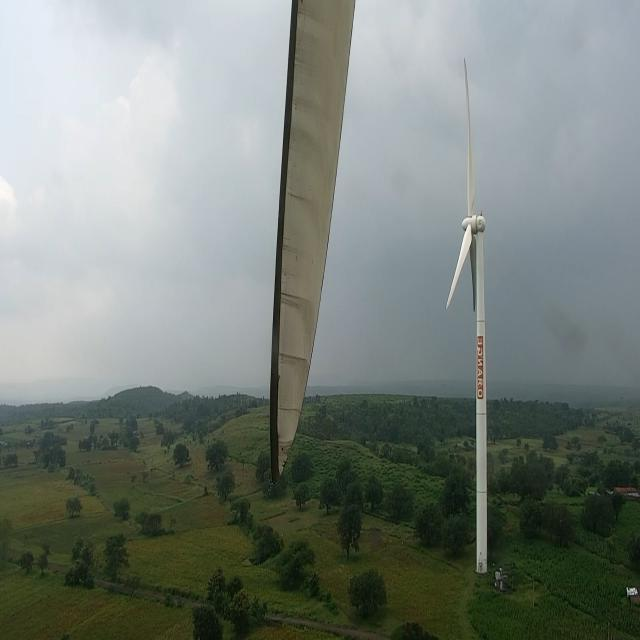Dirt: (269, 0, 357, 491)
